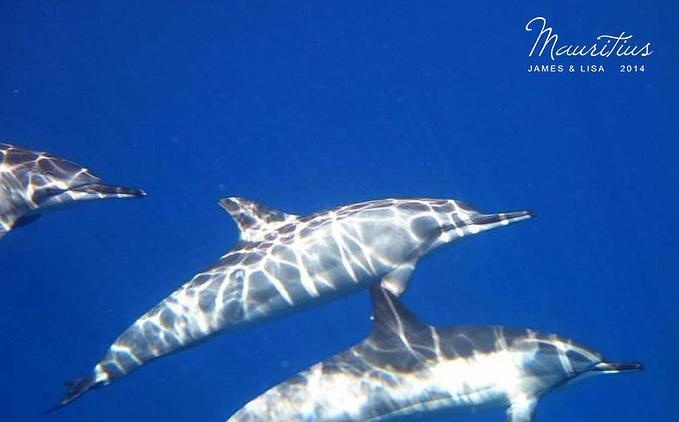fish: (42, 190, 539, 416), (190, 285, 646, 419), (1, 133, 151, 237)
